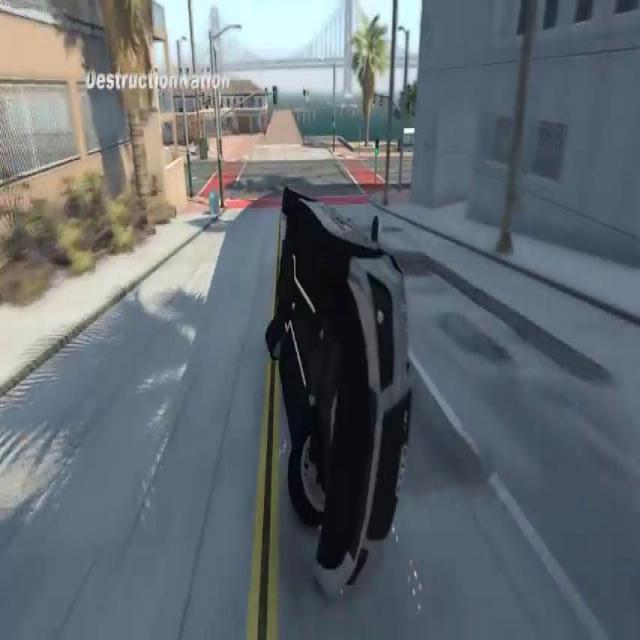accident: (265, 171, 417, 605)
